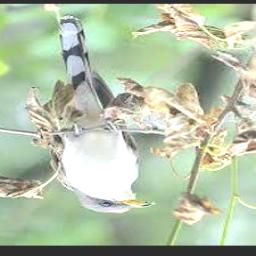Cuckoo: (51, 15, 156, 214)
